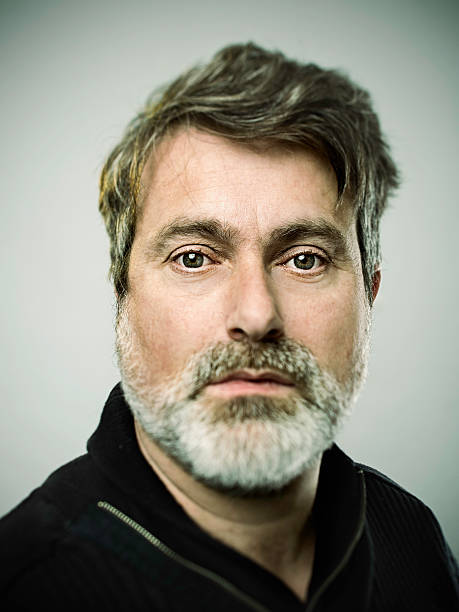face: (139, 159, 367, 491)
